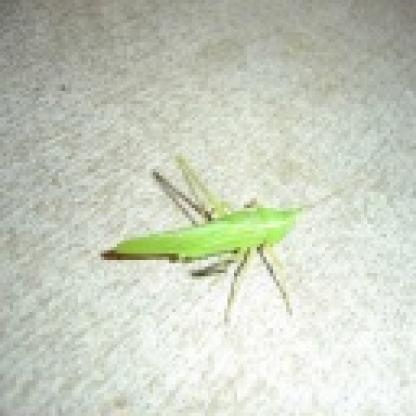grasshopper: (98, 157, 316, 320)
